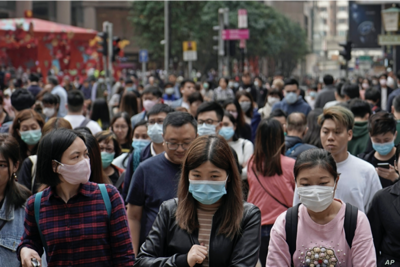with_mask: (297, 174, 337, 215), (189, 167, 230, 206), (59, 148, 92, 189), (146, 117, 169, 146), (196, 118, 220, 143), (372, 135, 396, 158), (20, 124, 42, 148), (98, 143, 116, 170), (131, 132, 152, 153), (141, 95, 159, 113), (220, 121, 236, 140), (283, 89, 300, 103), (42, 103, 56, 118), (268, 93, 282, 106), (240, 98, 252, 113), (226, 107, 238, 122), (380, 76, 389, 88), (362, 79, 371, 90), (166, 85, 175, 95), (372, 76, 380, 86), (98, 76, 106, 84), (254, 79, 261, 88), (310, 89, 317, 98), (204, 80, 210, 90)
without_mask: (319, 125, 350, 156), (164, 134, 195, 165), (112, 122, 128, 142), (183, 84, 196, 98)
